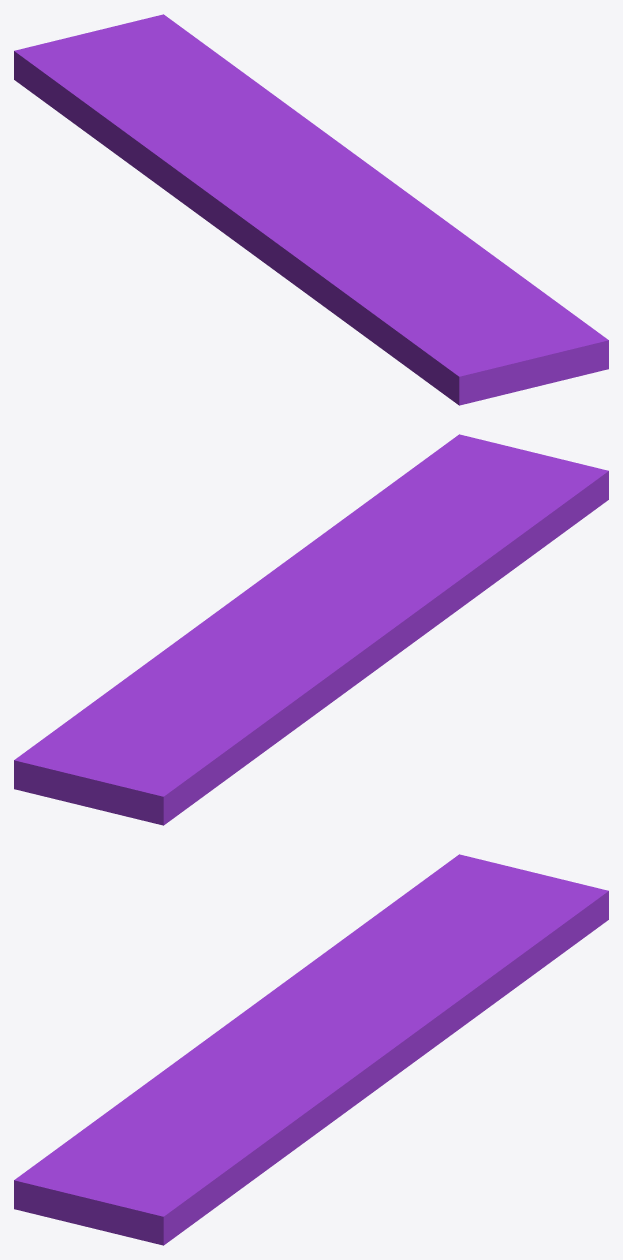
The model's file is StairsStep_84_chunks.fbx.
The picture shows the model from 3 angles, top to bottom: view 1: azimuth 30°, elevation 25°; view 2: azimuth 150°, elevation 25°; view 3: azimuth 330°, elevation 25°; orthographic projection.
Parts seen in each view (by area): view 1: StairsStep_84_1, StairsStep_84_3, StairsStep_84_0, StairsStep_84_2; view 2: StairsStep_84_3, StairsStep_84_1, StairsStep_84_0, StairsStep_84_2; view 3: StairsStep_84_1, StairsStep_84_3, StairsStep_84_0, StairsStep_84_2.
Boxes of the visible parts, x1,y1,x2,y2 form: StairsStep_84_1: [286, 188, 608, 405]; StairsStep_84_3: [14, 14, 385, 186]; StairsStep_84_0: [128, 134, 309, 278]; StairsStep_84_2: [290, 177, 400, 210]; StairsStep_84_3: [14, 597, 303, 825]; StairsStep_84_1: [252, 434, 608, 625]; StairsStep_84_0: [277, 593, 442, 735]; StairsStep_84_2: [236, 586, 342, 627]; StairsStep_84_1: [14, 1042, 379, 1245]; StairsStep_84_3: [319, 854, 608, 1086]; StairsStep_84_0: [181, 938, 345, 1058]; StairsStep_84_2: [280, 1023, 386, 1066].
Size of the model in its own units: 157 by 28.98 by 810.
